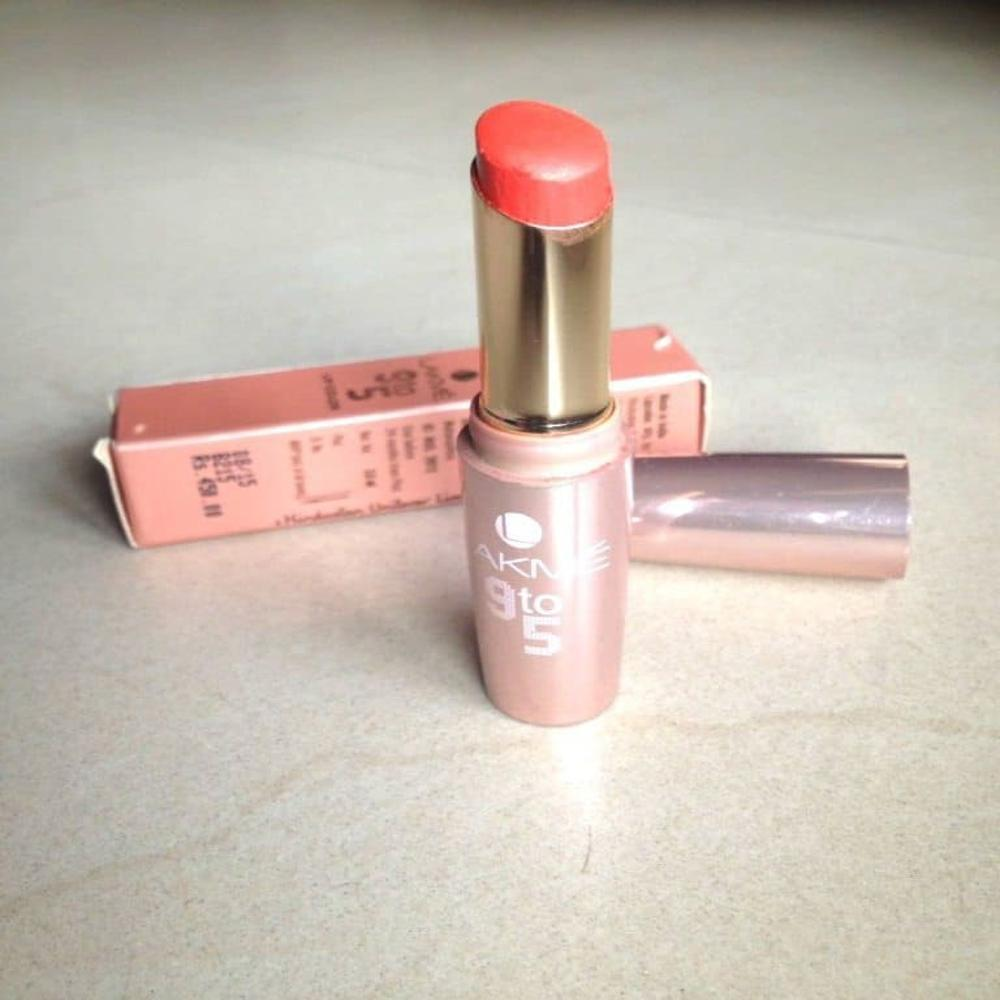lipstick: (411, 81, 667, 764)
